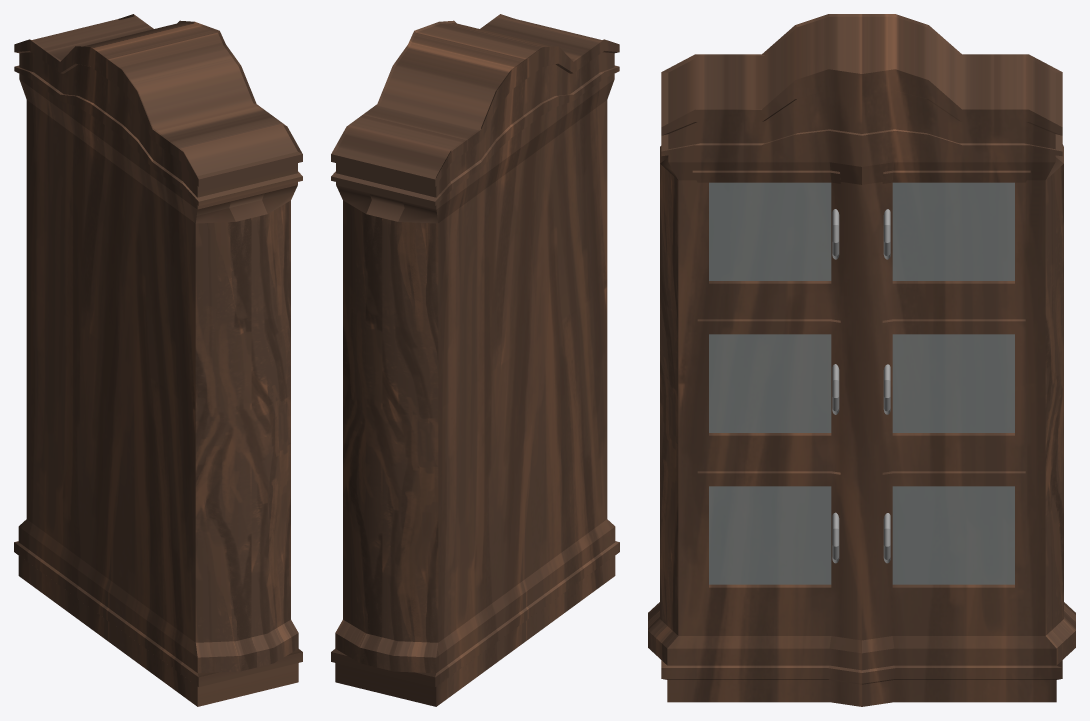
The model's file is cabinet.fbx.
3 renders of one model, left to right at view 1: azimuth 30°, elevation 25°; view 2: azimuth 150°, elevation 25°; view 3: azimuth 270°, elevation 25°, orthographic. The views are drawn at different scales.
Visible parts, largest first — view 1: pTorus10; view 2: pTorus10; view 3: pTorus10.
Part boxes in pixels (x1,y1,x2,y2): pTorus10: (14,14,302,706); pTorus10: (331,14,619,706); pTorus10: (648,14,1075,706).
Size of the model in its own units: 0.8728 by 4 by 2.45.
Materials: 3 (1 with a texture image).
